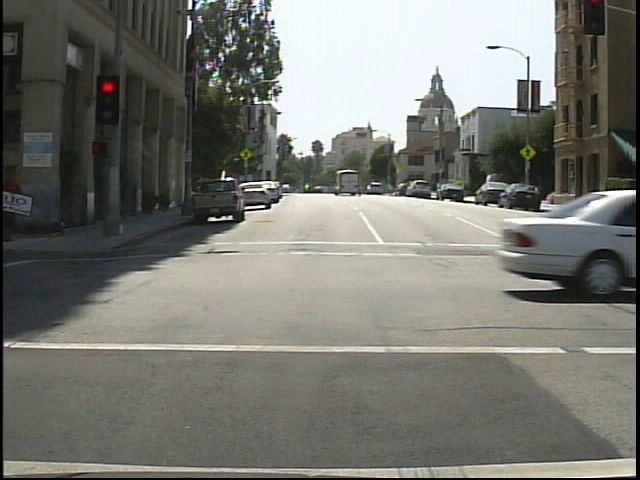person: (4, 158, 26, 243)
